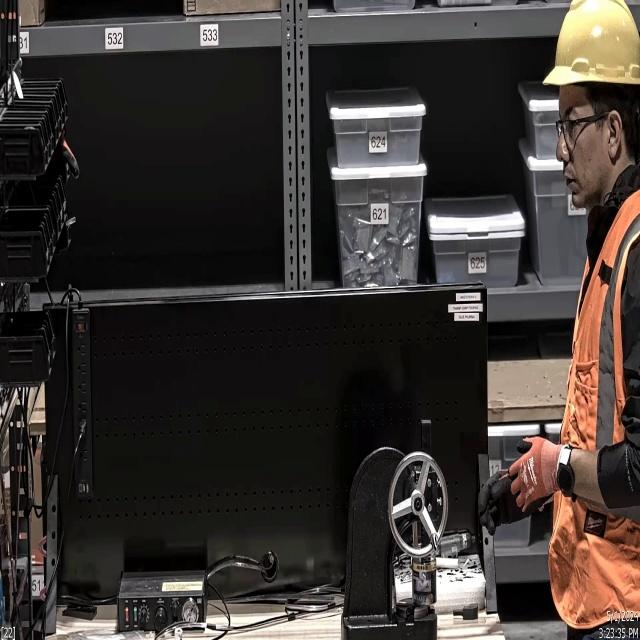construction-gloves: (504, 432, 561, 518)
